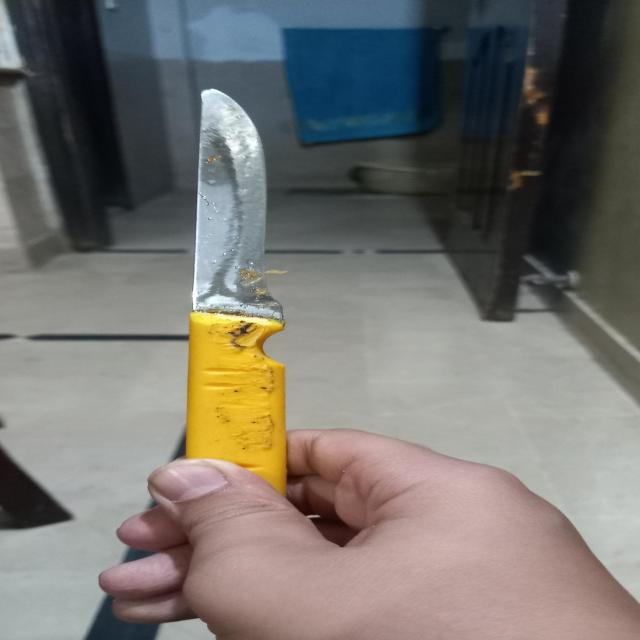Knife: (189, 90, 285, 493)
Person: (104, 428, 640, 640)
